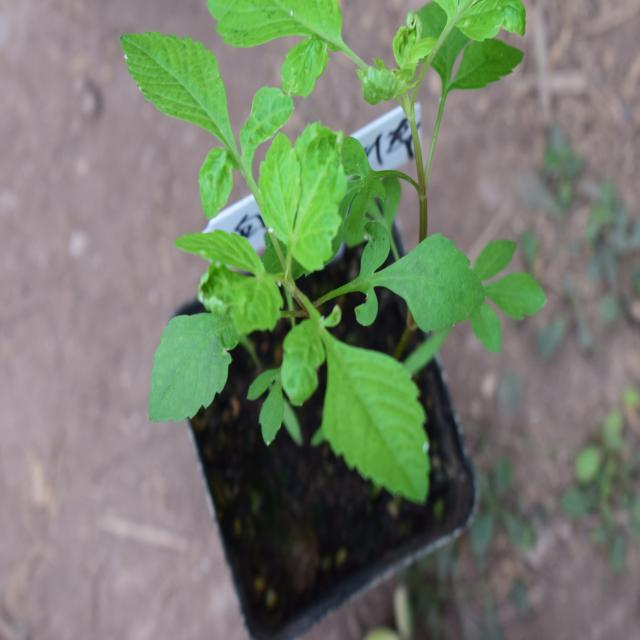Bidens pilosa: (111, 3, 477, 497)
